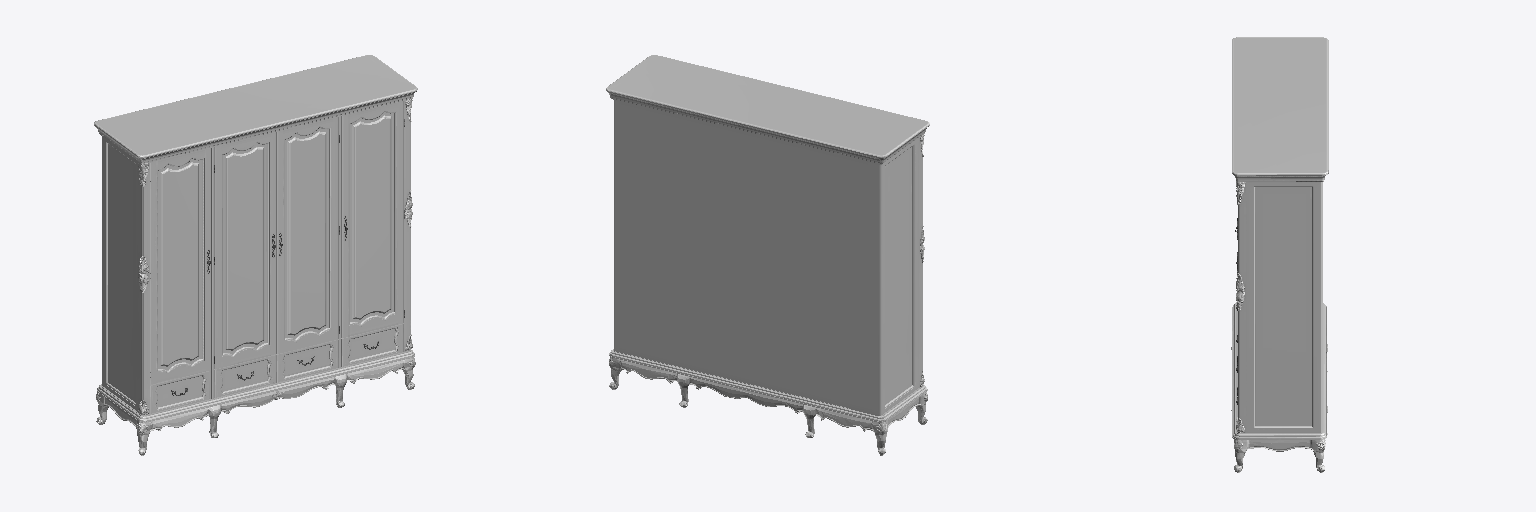
3 renders of one model, left to right at view 1: azimuth 30°, elevation 25°; view 2: azimuth 150°, elevation 25°; view 3: azimuth 270°, elevation 25°, orthographic.
Visible parts, largest first — view 1: solid_001; view 2: solid_001; view 3: solid_001.
Boxes of the visible parts, x1=… form: solid_001: x1=94, y1=55, x2=417, y2=455; solid_001: x1=606, y1=55, x2=929, y2=455; solid_001: x1=1231, y1=37, x2=1328, y2=472.
Bounding box in the file's own units: 1.31 × 1.35 × 0.3941.
Materials: 1 (1 with a texture image).